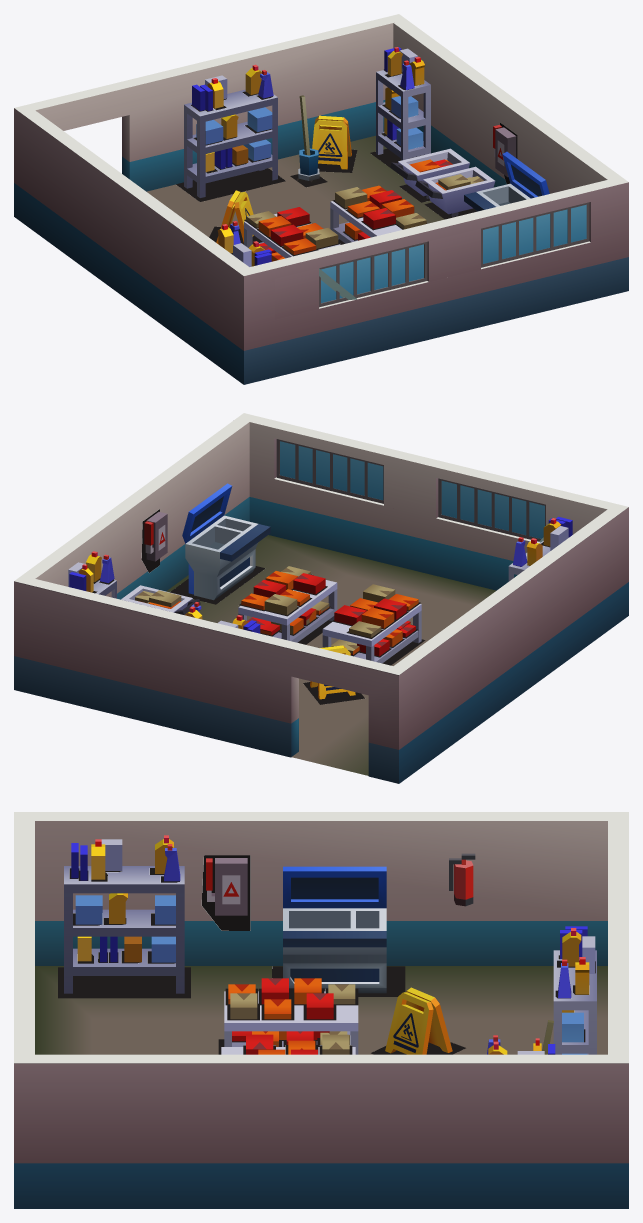
File: laundry.fbx
3 renders of one model, top to bottom at view 1: azimuth 30°, elevation 25°; view 2: azimuth 150°, elevation 25°; view 3: azimuth 270°, elevation 25°, orthographic. The views are drawn at different scales.
Visible parts, largest first — view 1: laundry model, shadow; view 2: laundry model, shadow; view 3: laundry model, shadow.
Part boxes in pixels (box(x1,y1,x2,y2)): laundry model: box(14, 14, 628, 384); shadow: box(176, 69, 517, 256); laundry model: box(14, 413, 628, 783); shadow: box(92, 509, 549, 704); laundry model: box(14, 812, 628, 1208); shadow: box(58, 855, 595, 1054).
Size of the model in its own units: 998 by 1031 by 270.
2 materials, 2 textured.
